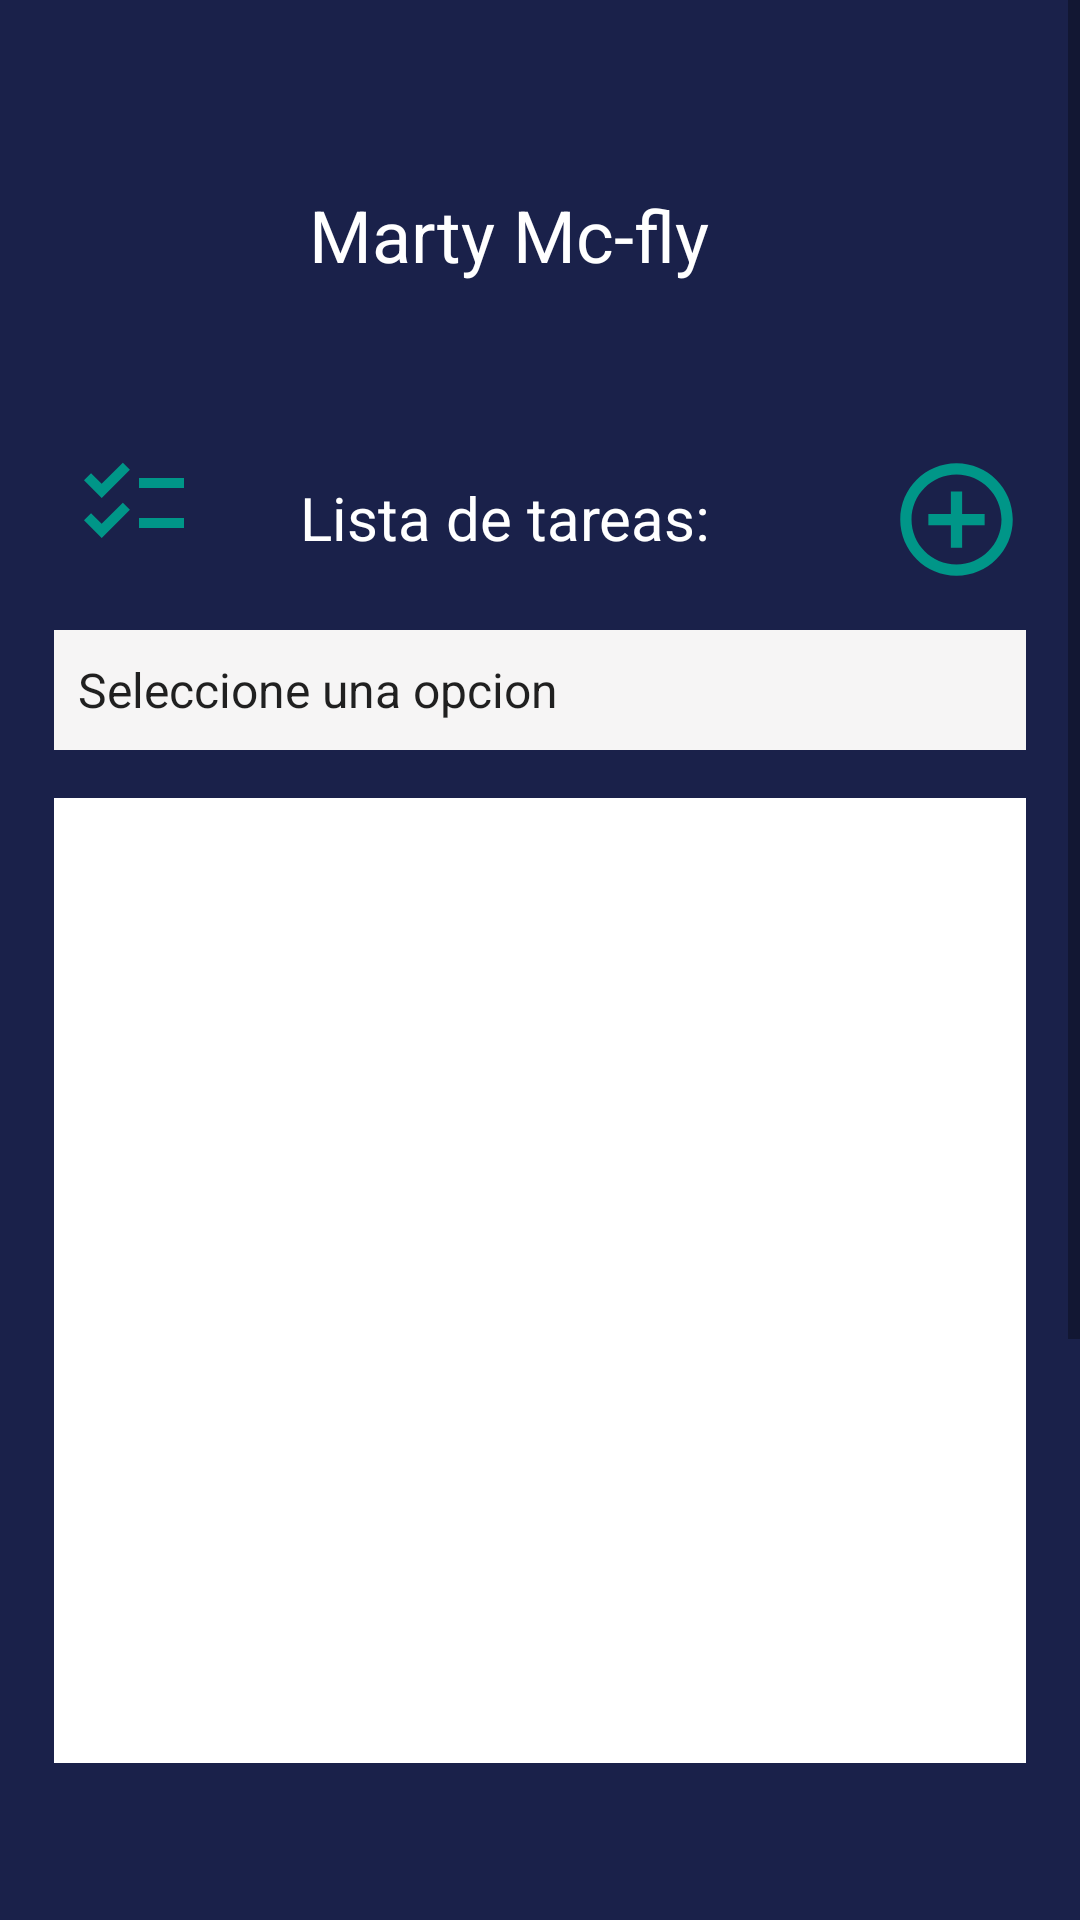

Point at icon controls on the screen. Image size 1080px x 1920px, points as [x,y].
addverde: [956,519]
checklist: [134,500]
